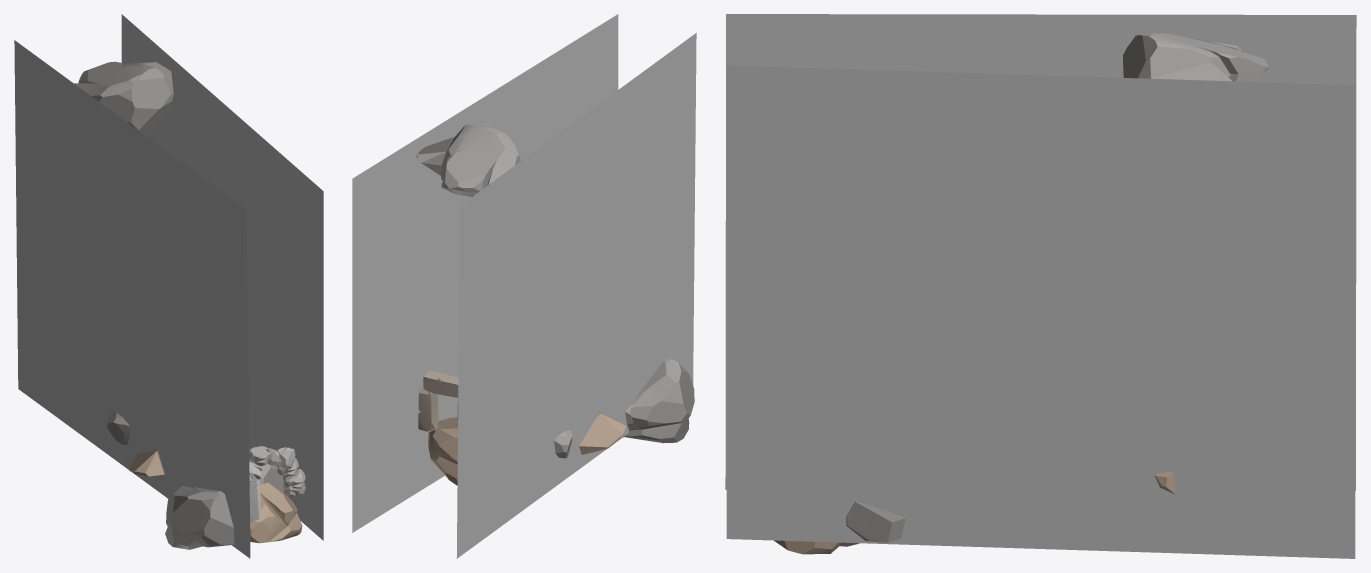
File: Falling Rock-BAKED.fbx
3 views of the same model, side by side, from view 1: azimuth 30°, elevation 25°; view 2: azimuth 150°, elevation 25°; view 3: azimuth 270°, elevation 25° (orthographic). The views are drawn at different scales.
Visible parts, largest first — view 1: Wall, Wall001, falling rock, Rock_005__21_:Rock_005_12_, Rock_005__21_:Rock_005_15_, Rock_005__21_:Rock_005_9_, Rock_005__21_:Rock_005_3_, Rock_005__21_:Stone_004_13_, Rock_005__21_:Rock_005_6_; view 2: Wall, Wall001, falling rock, Rock_005__21_:Rock_005_12_, Rock_005__21_:Rock_005_5_, Rock_005__21_:Rock_005_9_, Rock_005__21_:Stone_004_24_, Rock_005__21_:Stone_004_26_; view 3: Wall001, Wall, falling rock, Rock_005__21_:Rock_005_6_, Rock_005__21_:Rock_005_15_.
Boxes of the visible parts, x1,y1,x2,y2 form: Wall: (14,40,250,558); Wall001: (121,14,323,540); falling rock: (74,61,173,134); Rock_005__21_:Rock_005_12_: (165,485,234,549); Rock_005__21_:Rock_005_15_: (250,482,302,543); Rock_005__21_:Rock_005_9_: (129,448,165,476); Rock_005__21_:Rock_005_3_: (107,412,130,447); Rock_005__21_:Stone_004_13_: (249,477,261,522); Rock_005__21_:Rock_005_6_: (249,448,284,493); Wall: (456,33,696,558); Wall001: (352,14,618,532); falling rock: (416,124,520,196); Rock_005__21_:Rock_005_12_: (624,357,694,443); Rock_005__21_:Rock_005_5_: (428,417,457,485); Rock_005__21_:Rock_005_9_: (579,411,625,454); Rock_005__21_:Stone_004_24_: (418,384,438,431); Rock_005__21_:Stone_004_26_: (423,370,458,397); Wall001: (726,65,1355,558); Wall: (725,14,1356,490); falling rock: (1123,33,1268,81); Rock_005__21_:Rock_005_6_: (846,501,905,542); Rock_005__21_:Rock_005_15_: (774,540,859,554).
Bounding box in the file's own units: 20.91 × 53.04 × 59.57.
